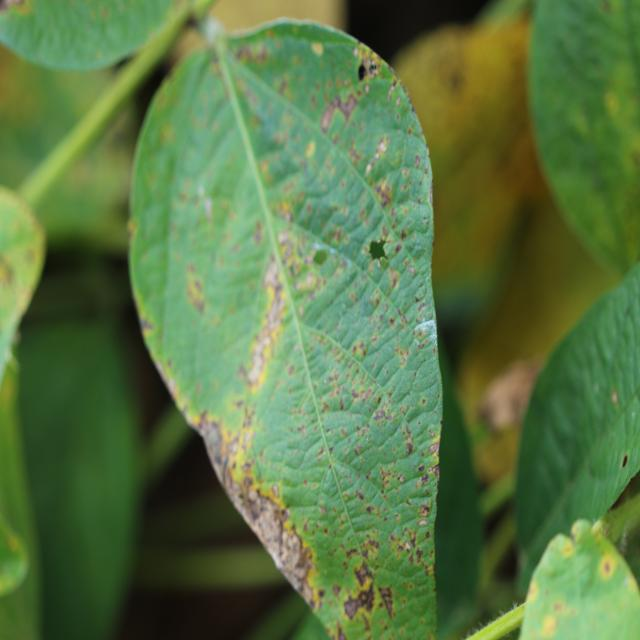Bacterial_Blight: (558, 62, 635, 206), (243, 268, 290, 391), (478, 357, 542, 435), (274, 521, 310, 580), (197, 414, 229, 470), (321, 87, 359, 129), (233, 37, 278, 72), (375, 577, 399, 624), (277, 230, 304, 269), (240, 485, 266, 524), (608, 481, 635, 516), (368, 135, 391, 173), (186, 272, 207, 313), (379, 462, 405, 493), (373, 180, 394, 210), (354, 560, 375, 588), (358, 56, 379, 81), (368, 239, 389, 264), (393, 341, 412, 368), (164, 372, 180, 403), (360, 535, 380, 558), (0, 257, 15, 287), (604, 91, 620, 117), (241, 404, 256, 431), (184, 11, 201, 34), (114, 53, 133, 73), (236, 362, 251, 387), (541, 614, 558, 636), (414, 326, 431, 347), (448, 70, 463, 92), (252, 221, 264, 247), (352, 342, 367, 361), (139, 316, 154, 335), (355, 423, 370, 442), (1, 0, 24, 12), (372, 408, 388, 425), (202, 196, 213, 220), (313, 249, 328, 266), (335, 623, 348, 640), (561, 540, 574, 557), (305, 139, 316, 158), (418, 502, 431, 518), (407, 532, 418, 550), (311, 41, 324, 56), (428, 179, 434, 210), (428, 441, 439, 457), (127, 221, 136, 240), (409, 102, 418, 121), (553, 600, 565, 613), (528, 582, 537, 599), (12, 328, 21, 345), (622, 453, 630, 469), (405, 442, 414, 456), (624, 304, 632, 319), (355, 489, 364, 501), (420, 473, 429, 485), (612, 390, 619, 405), (365, 163, 373, 176), (624, 575, 632, 588), (388, 316, 396, 327), (401, 229, 408, 241), (604, 561, 611, 573), (365, 505, 374, 514), (339, 398, 345, 411), (353, 47, 359, 59), (418, 465, 425, 473), (306, 282, 312, 291), (333, 340, 340, 347), (329, 314, 336, 320), (421, 398, 426, 405), (307, 277, 311, 280), (340, 266, 342, 270)
Soybean: (130, 22, 442, 640)
